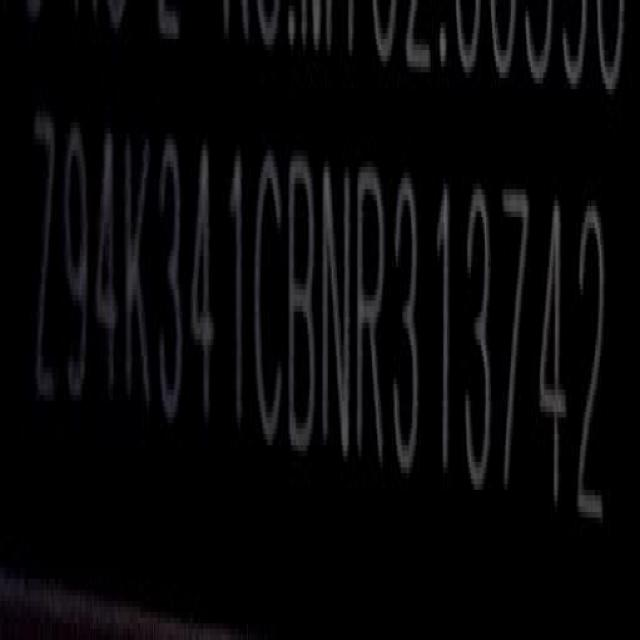1: (226, 142, 247, 444), (433, 173, 453, 487)
2: (576, 210, 609, 523)
3: (461, 182, 492, 500), (395, 172, 423, 478), (160, 136, 186, 430)
4: (538, 195, 572, 516), (192, 134, 219, 435), (96, 118, 121, 412)
7: (501, 182, 533, 506)
9: (65, 119, 91, 413)
B: (291, 150, 320, 461)
C: (254, 147, 286, 447)
K: (125, 126, 152, 406)
N: (321, 152, 351, 461)
R: (356, 164, 387, 472)
Z: (30, 104, 61, 415)
